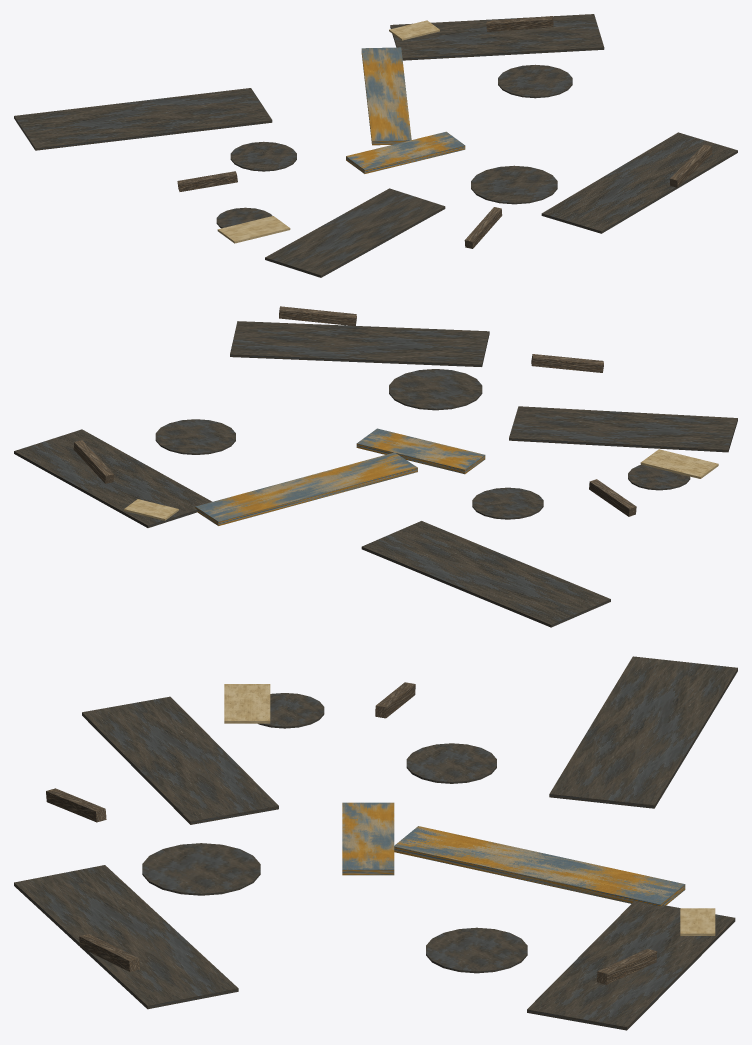
File: ENV_STORM_CAMP_001.obj
3 views of the same model, one above another, from view 1: azimuth 30°, elevation 25°; view 2: azimuth 150°, elevation 25°; view 3: azimuth 270°, elevation 25° (orthographic). The views are drawn at different scales.
Parts seen in each view (by area): view 1: LargeWetGroundPatch_1, LargeWetGroundPatch_3, LargeWetGroundPatch_2, LargeWetGroundPatch_4, PreservedSignalFinalApproach, BroadStormPuddle_2, PreservedFireReadability, BroadStormPuddle_3, BroadStormPuddle_1, TornShelterCanvasScrap, LooseReadableDebris_4, BroadStormPuddle_4 (+4 smaller); view 2: LargeWetGroundPatch_1, LargeWetGroundPatch_3, LargeWetGroundPatch_2, LargeWetGroundPatch_4, PreservedSignalFinalApproach, BroadStormPuddle_2, PreservedFireReadability, BroadStormPuddle_3, BroadStormPuddle_1, TornShelterCanvasScrap, BroadStormPuddle_4, LooseReadableDebris_3 (+4 smaller); view 3: LargeWetGroundPatch_1, LargeWetGroundPatch_3, LargeWetGroundPatch_2, LargeWetGroundPatch_4, PreservedSignalFinalApproach, BroadStormPuddle_2, PreservedFireReadability, BroadStormPuddle_3, BroadStormPuddle_1, TornShelterCanvasScrap, BroadStormPuddle_4, LooseReadableDebris_3 (+4 smaller).
Part boxes in pixels (bbox=[...]): LargeWetGroundPatch_1: bbox=[14, 88, 272, 150]; LargeWetGroundPatch_3: bbox=[541, 132, 737, 233]; LargeWetGroundPatch_2: bbox=[265, 188, 445, 277]; LargeWetGroundPatch_4: bbox=[390, 14, 604, 60]; PreservedSignalFinalApproach: bbox=[361, 47, 411, 145]; BroadStormPuddle_2: bbox=[471, 165, 557, 204]; PreservedFireReadability: bbox=[346, 131, 465, 173]; BroadStormPuddle_3: bbox=[498, 64, 572, 98]; BroadStormPuddle_1: bbox=[230, 141, 296, 171]; TornShelterCanvasScrap: bbox=[217, 216, 290, 243]; LooseReadableDebris_4: bbox=[486, 16, 553, 31]; BroadStormPuddle_4: bbox=[216, 207, 272, 228]; LargeWetGroundPatch_1: bbox=[361, 521, 610, 627]; LargeWetGroundPatch_3: bbox=[230, 321, 489, 366]; LargeWetGroundPatch_2: bbox=[509, 406, 737, 452]; LargeWetGroundPatch_4: bbox=[14, 429, 212, 527]; PreservedSignalFinalApproach: bbox=[195, 452, 417, 525]; BroadStormPuddle_2: bbox=[389, 369, 482, 410]; PreservedFireReadability: bbox=[356, 428, 485, 474]; BroadStormPuddle_3: bbox=[155, 419, 235, 454]; BroadStormPuddle_1: bbox=[472, 487, 543, 519]; TornShelterCanvasScrap: bbox=[640, 449, 718, 478]; BroadStormPuddle_4: bbox=[628, 464, 690, 490]; LooseReadableDebris_3: bbox=[279, 306, 356, 326]; LargeWetGroundPatch_1: bbox=[549, 656, 737, 808]; LargeWetGroundPatch_3: bbox=[14, 865, 238, 1009]; LargeWetGroundPatch_2: bbox=[82, 696, 278, 824]; LargeWetGroundPatch_4: bbox=[527, 901, 735, 1030]; PreservedSignalFinalApproach: bbox=[394, 826, 685, 906]; BroadStormPuddle_2: bbox=[142, 843, 260, 895]; PreservedFireReadability: bbox=[342, 802, 394, 875]; BroadStormPuddle_3: bbox=[426, 927, 527, 973]; BroadStormPuddle_1: bbox=[406, 743, 496, 783]; TornShelterCanvasScrap: bbox=[224, 684, 270, 723]; BroadStormPuddle_4: bbox=[258, 693, 324, 728]; LooseReadableDebris_3: bbox=[79, 934, 139, 971].
Bounding box in the file's own units: 10.51 × 0.3693 × 8.68.
Materials: 4 (4 with a texture image).
